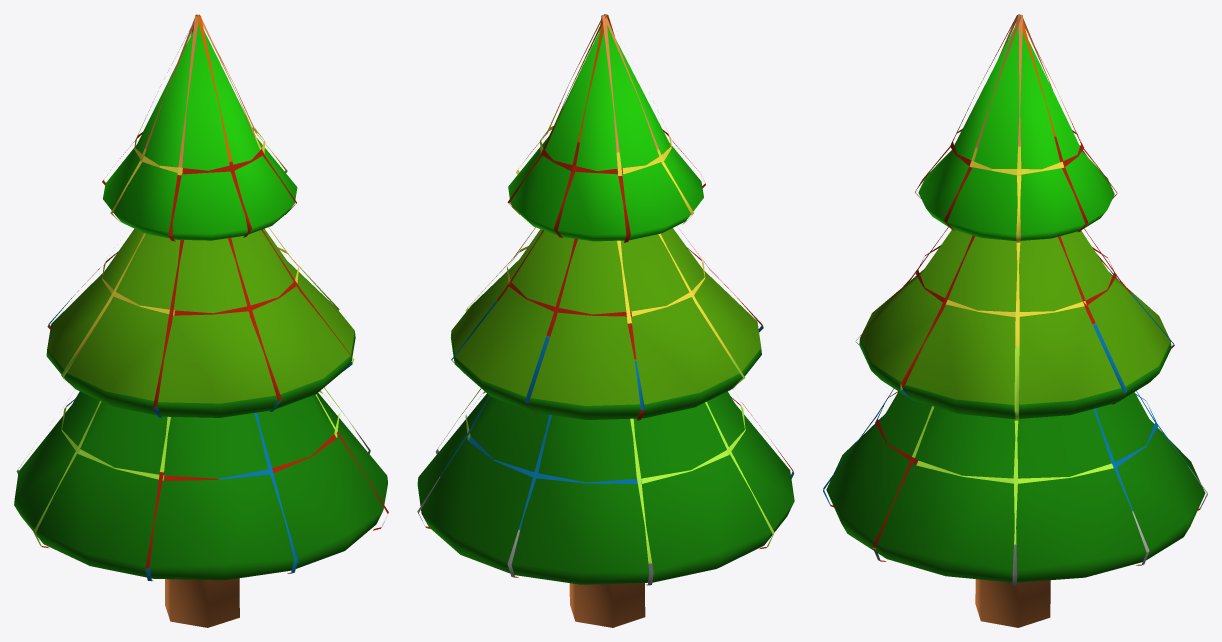
The model's file is PineTree.fbx.
3 views of the same model, side by side, from view 1: azimuth 30°, elevation 25°; view 2: azimuth 150°, elevation 25°; view 3: azimuth 270°, elevation 25° (orthographic).
Parts seen in each view (by area): view 1: PineTree_LOD0; view 2: PineTree_LOD0; view 3: PineTree_LOD0.
Boxes of the visible parts, <box> form: PineTree_LOD0: <box>14,14,388,627</box>; PineTree_LOD0: <box>417,14,794,627</box>; PineTree_LOD0: <box>823,14,1207,627</box>.
Size of what is drawn, in the model's own units: 564 by 955 by 559.
